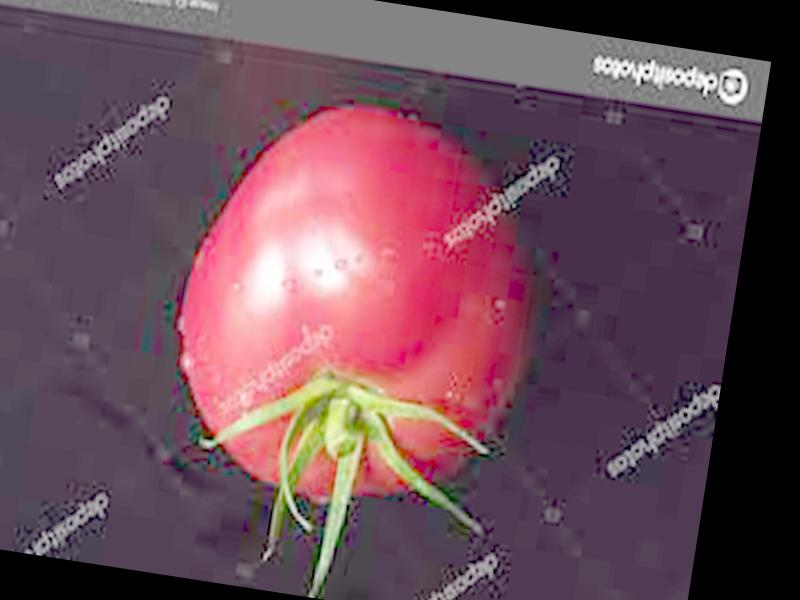Tomato: (156, 85, 556, 526)
